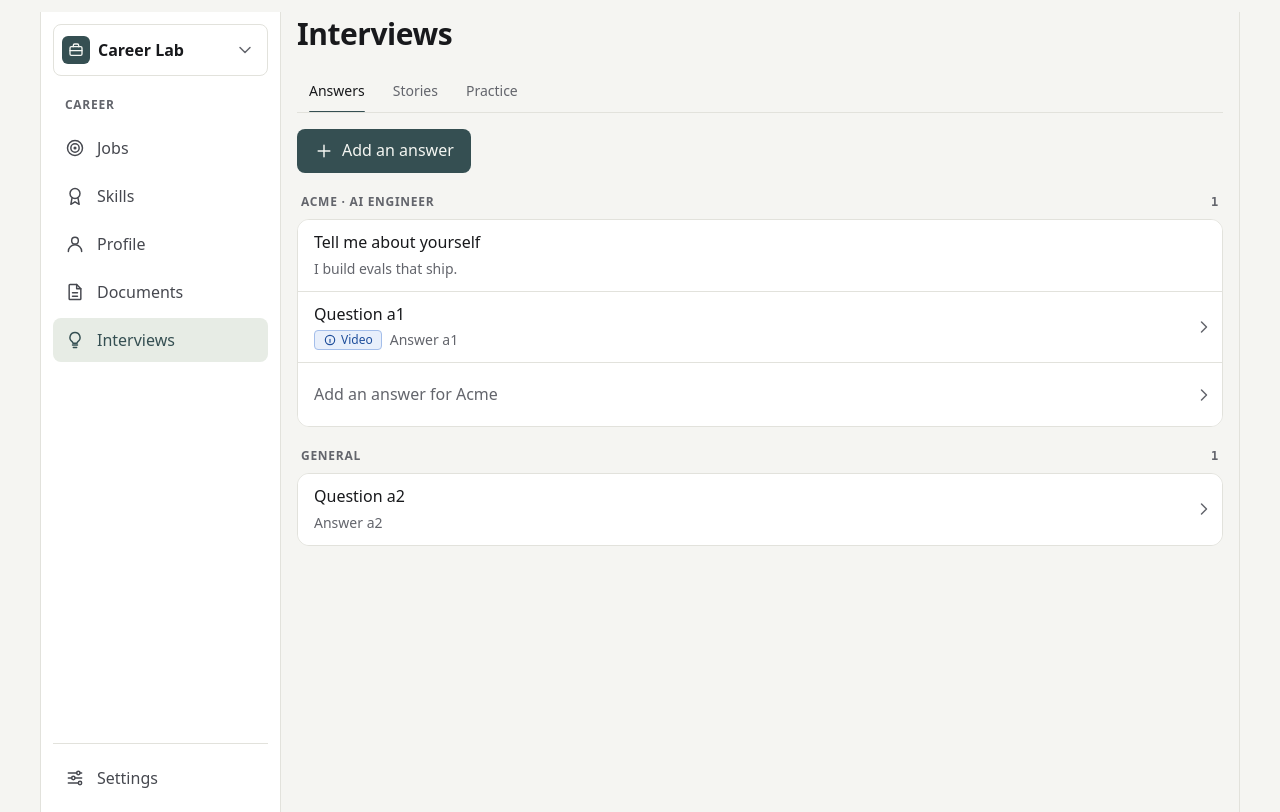
Interviews · stories and practice › lists practice sessions with what to fix
Expected: the element "General" is shown, x1=297 y1=447 x2=1223 y2=546
Click the tab "Practice".
click(492, 90)  # box x1=454 y1=68 x2=530 y2=112
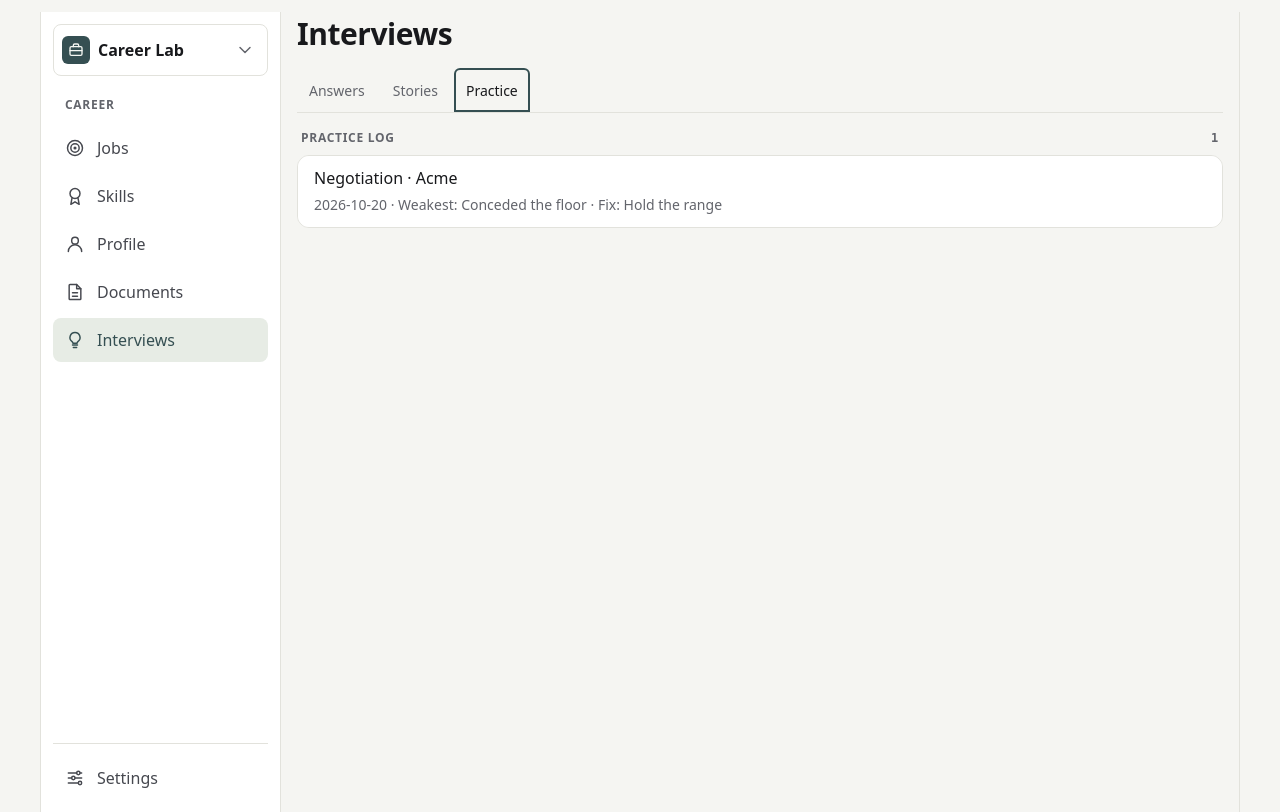
Now the element "Practice log" shows "Negotiation · Acme", box x1=314 y1=167 x2=458 y2=189
Now the element "Practice log" shows "2026-10-20 · Weakest: Conceded the floor · Fix: Hold the range", box x1=314 y1=195 x2=722 y2=214
